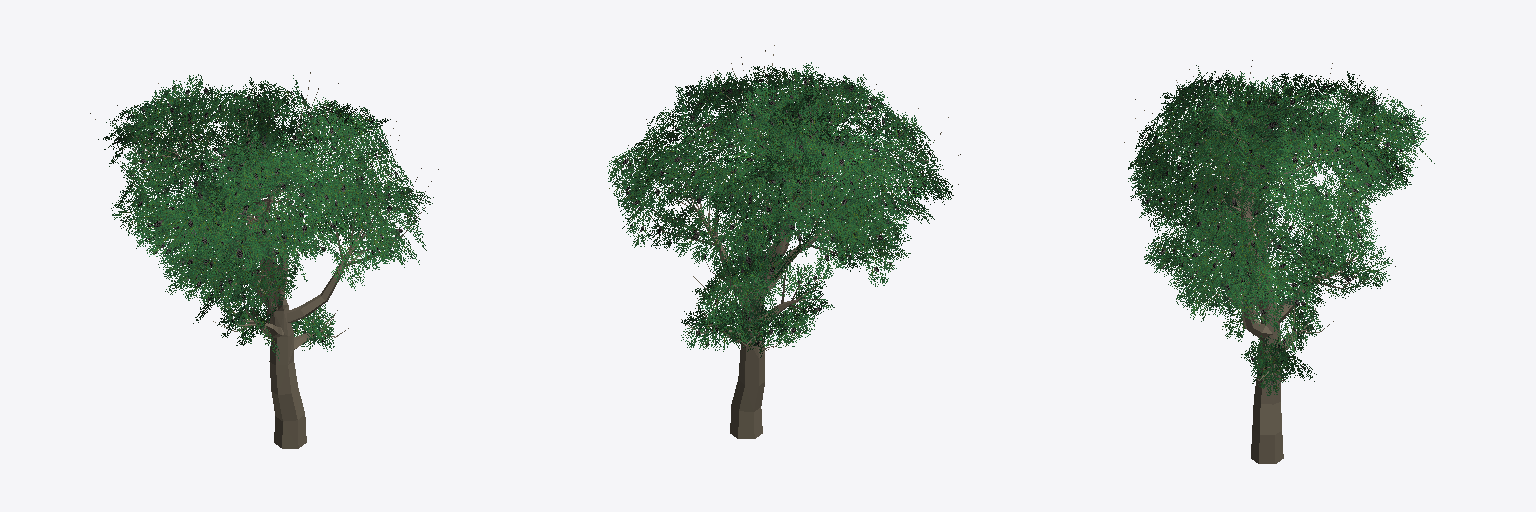
The picture shows the model from 3 angles: view 1: azimuth 30°, elevation 25°; view 2: azimuth 150°, elevation 25°; view 3: azimuth 270°, elevation 25°; orthographic projection.
Parts seen in each view (by area): view 1: Conifer_1_Branches, Conifer_1_Trunk; view 2: Conifer_1_Branches, Conifer_1_Trunk; view 3: Conifer_1_Branches, Conifer_1_Trunk.
Boxes of the visible parts, box(x1,y1,x2,y2) form: Conifer_1_Branches: box(98, 74, 433, 360); Conifer_1_Trunk: box(90, 72, 438, 448); Conifer_1_Branches: box(607, 62, 953, 357); Conifer_1_Trunk: box(628, 45, 960, 438); Conifer_1_Branches: box(1128, 65, 1434, 395); Conifer_1_Trunk: box(1124, 60, 1421, 463).
Size of the model in its own units: 588 by 633 by 498.
4 materials, 2 textured.